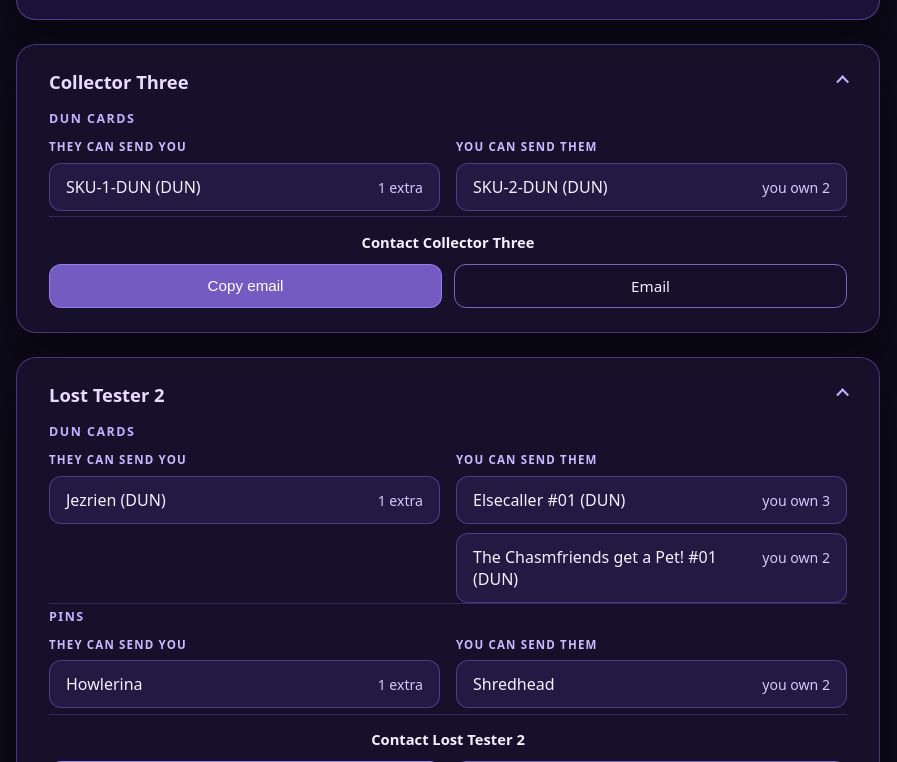
Test: MatchesPage › collapses one counterparty group without affecting another
(page scrolled)
Expected: the text "Jezrien (DUN)" is shown, [66,489,166,511]
Expected: the text "SKU-1-DUN (DUN)" is shown, [66,176,201,198]
Click the heading "Lost Tester 2" at (107, 394), box [49,382,165,407]
(page scrolled)
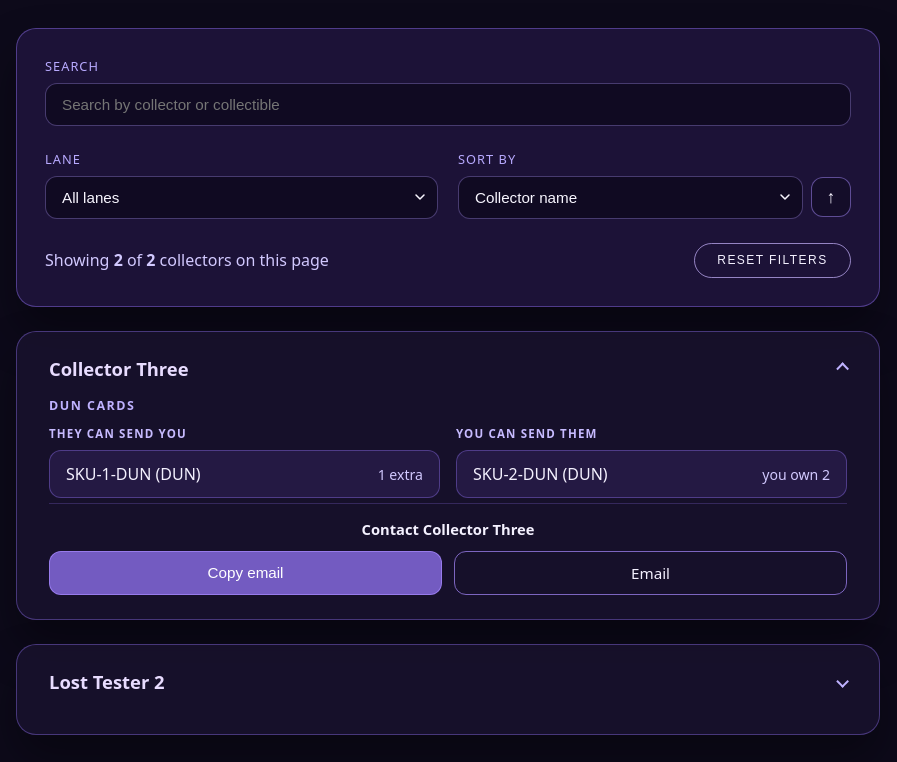
Expected: the text "SKU-1-DUN (DUN)" is shown, [66,463,201,485]
Now the element "Lost Tester 2" does not have attribute open, box [16,644,880,735]
Click the heading "Lost Tester 2" at (107, 681), box [49,669,165,694]
(page scrolled)
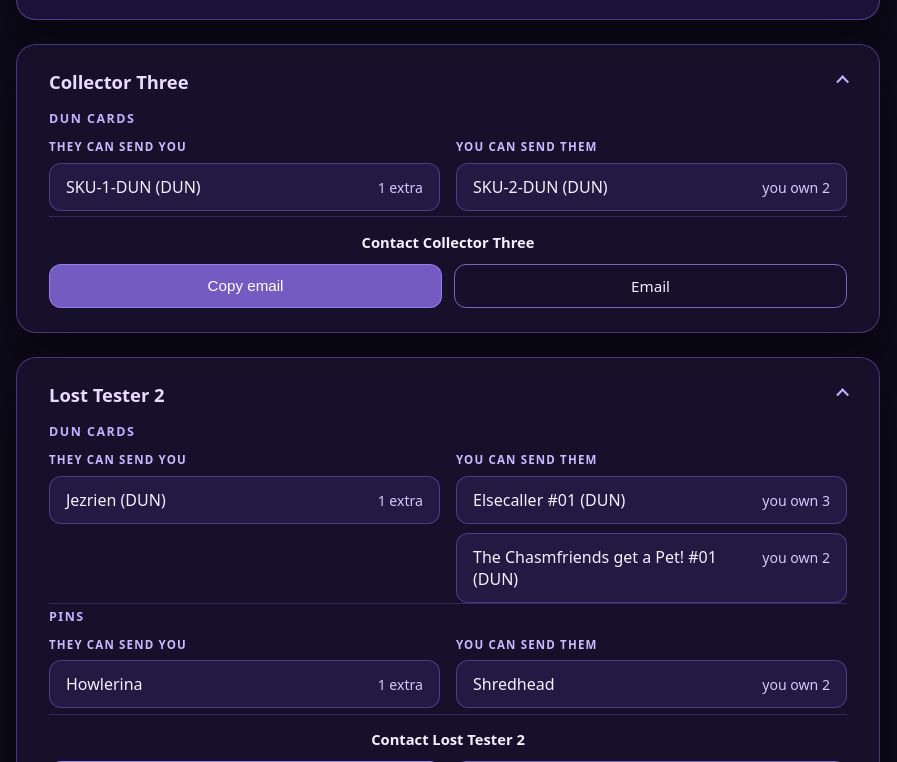
Now the text "Jezrien (DUN)" is shown, box [66,489,166,511]
